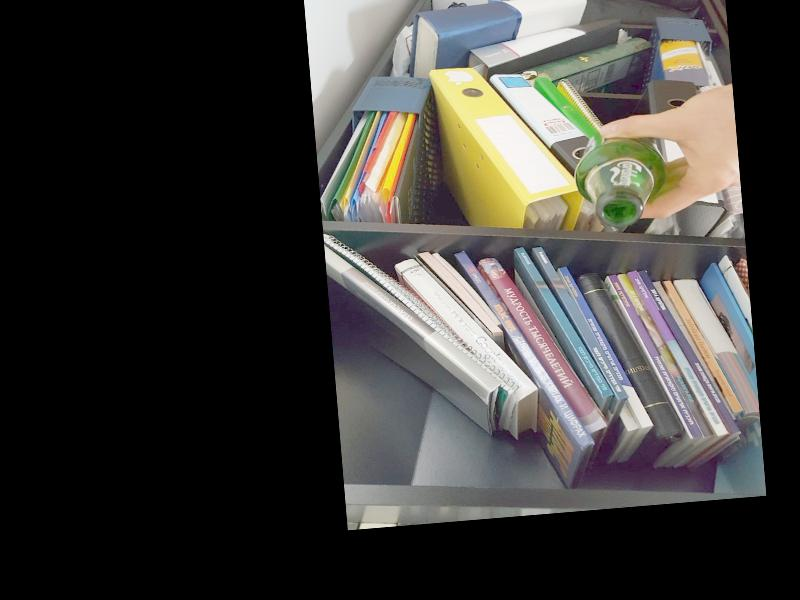Beer: (572, 126, 666, 227)
